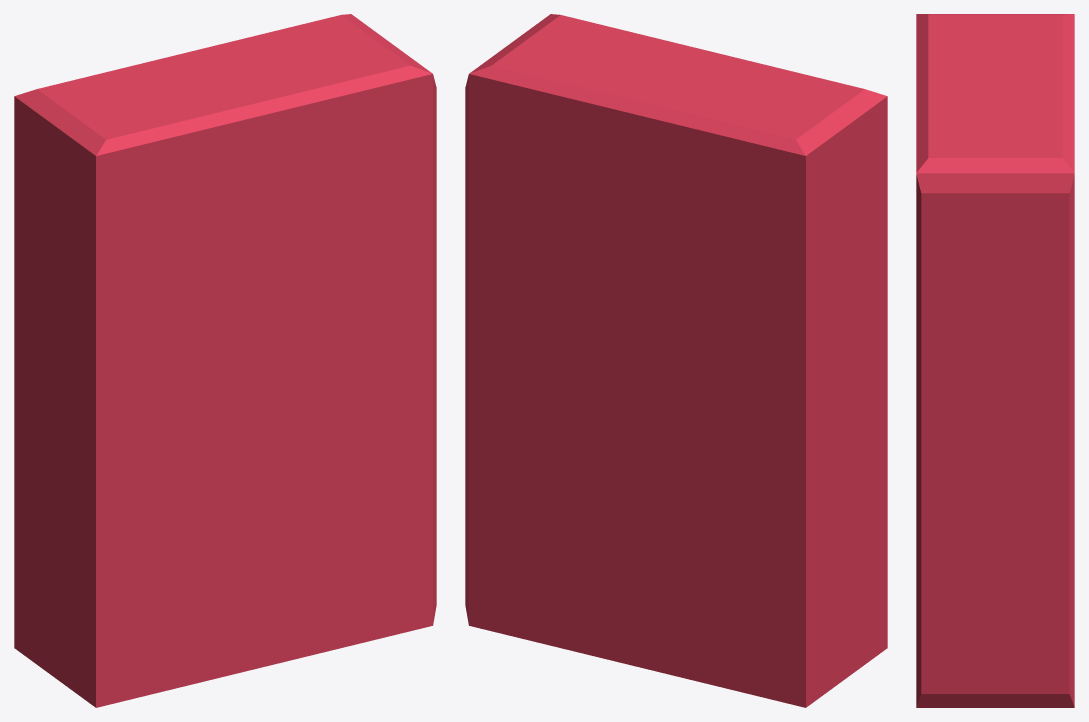
File: Itr_Couch_Inside_Back_01.FBX
3 renders of one model, left to right at view 1: azimuth 30°, elevation 25°; view 2: azimuth 150°, elevation 25°; view 3: azimuth 270°, elevation 25°, orthographic. The views are drawn at different scales.
Visible parts, largest first — view 1: Itr_Couch_Inside_Back_01; view 2: Itr_Couch_Inside_Back_01; view 3: Itr_Couch_Inside_Back_01.
Part boxes in pixels (left/top/right/bottom): Itr_Couch_Inside_Back_01: left=14, top=14, right=436, bottom=707; Itr_Couch_Inside_Back_01: left=465, top=14, right=887, bottom=707; Itr_Couch_Inside_Back_01: left=916, top=14, right=1074, bottom=707.
Size of the model in its own units: 18.9 by 29.45 by 7.8.
